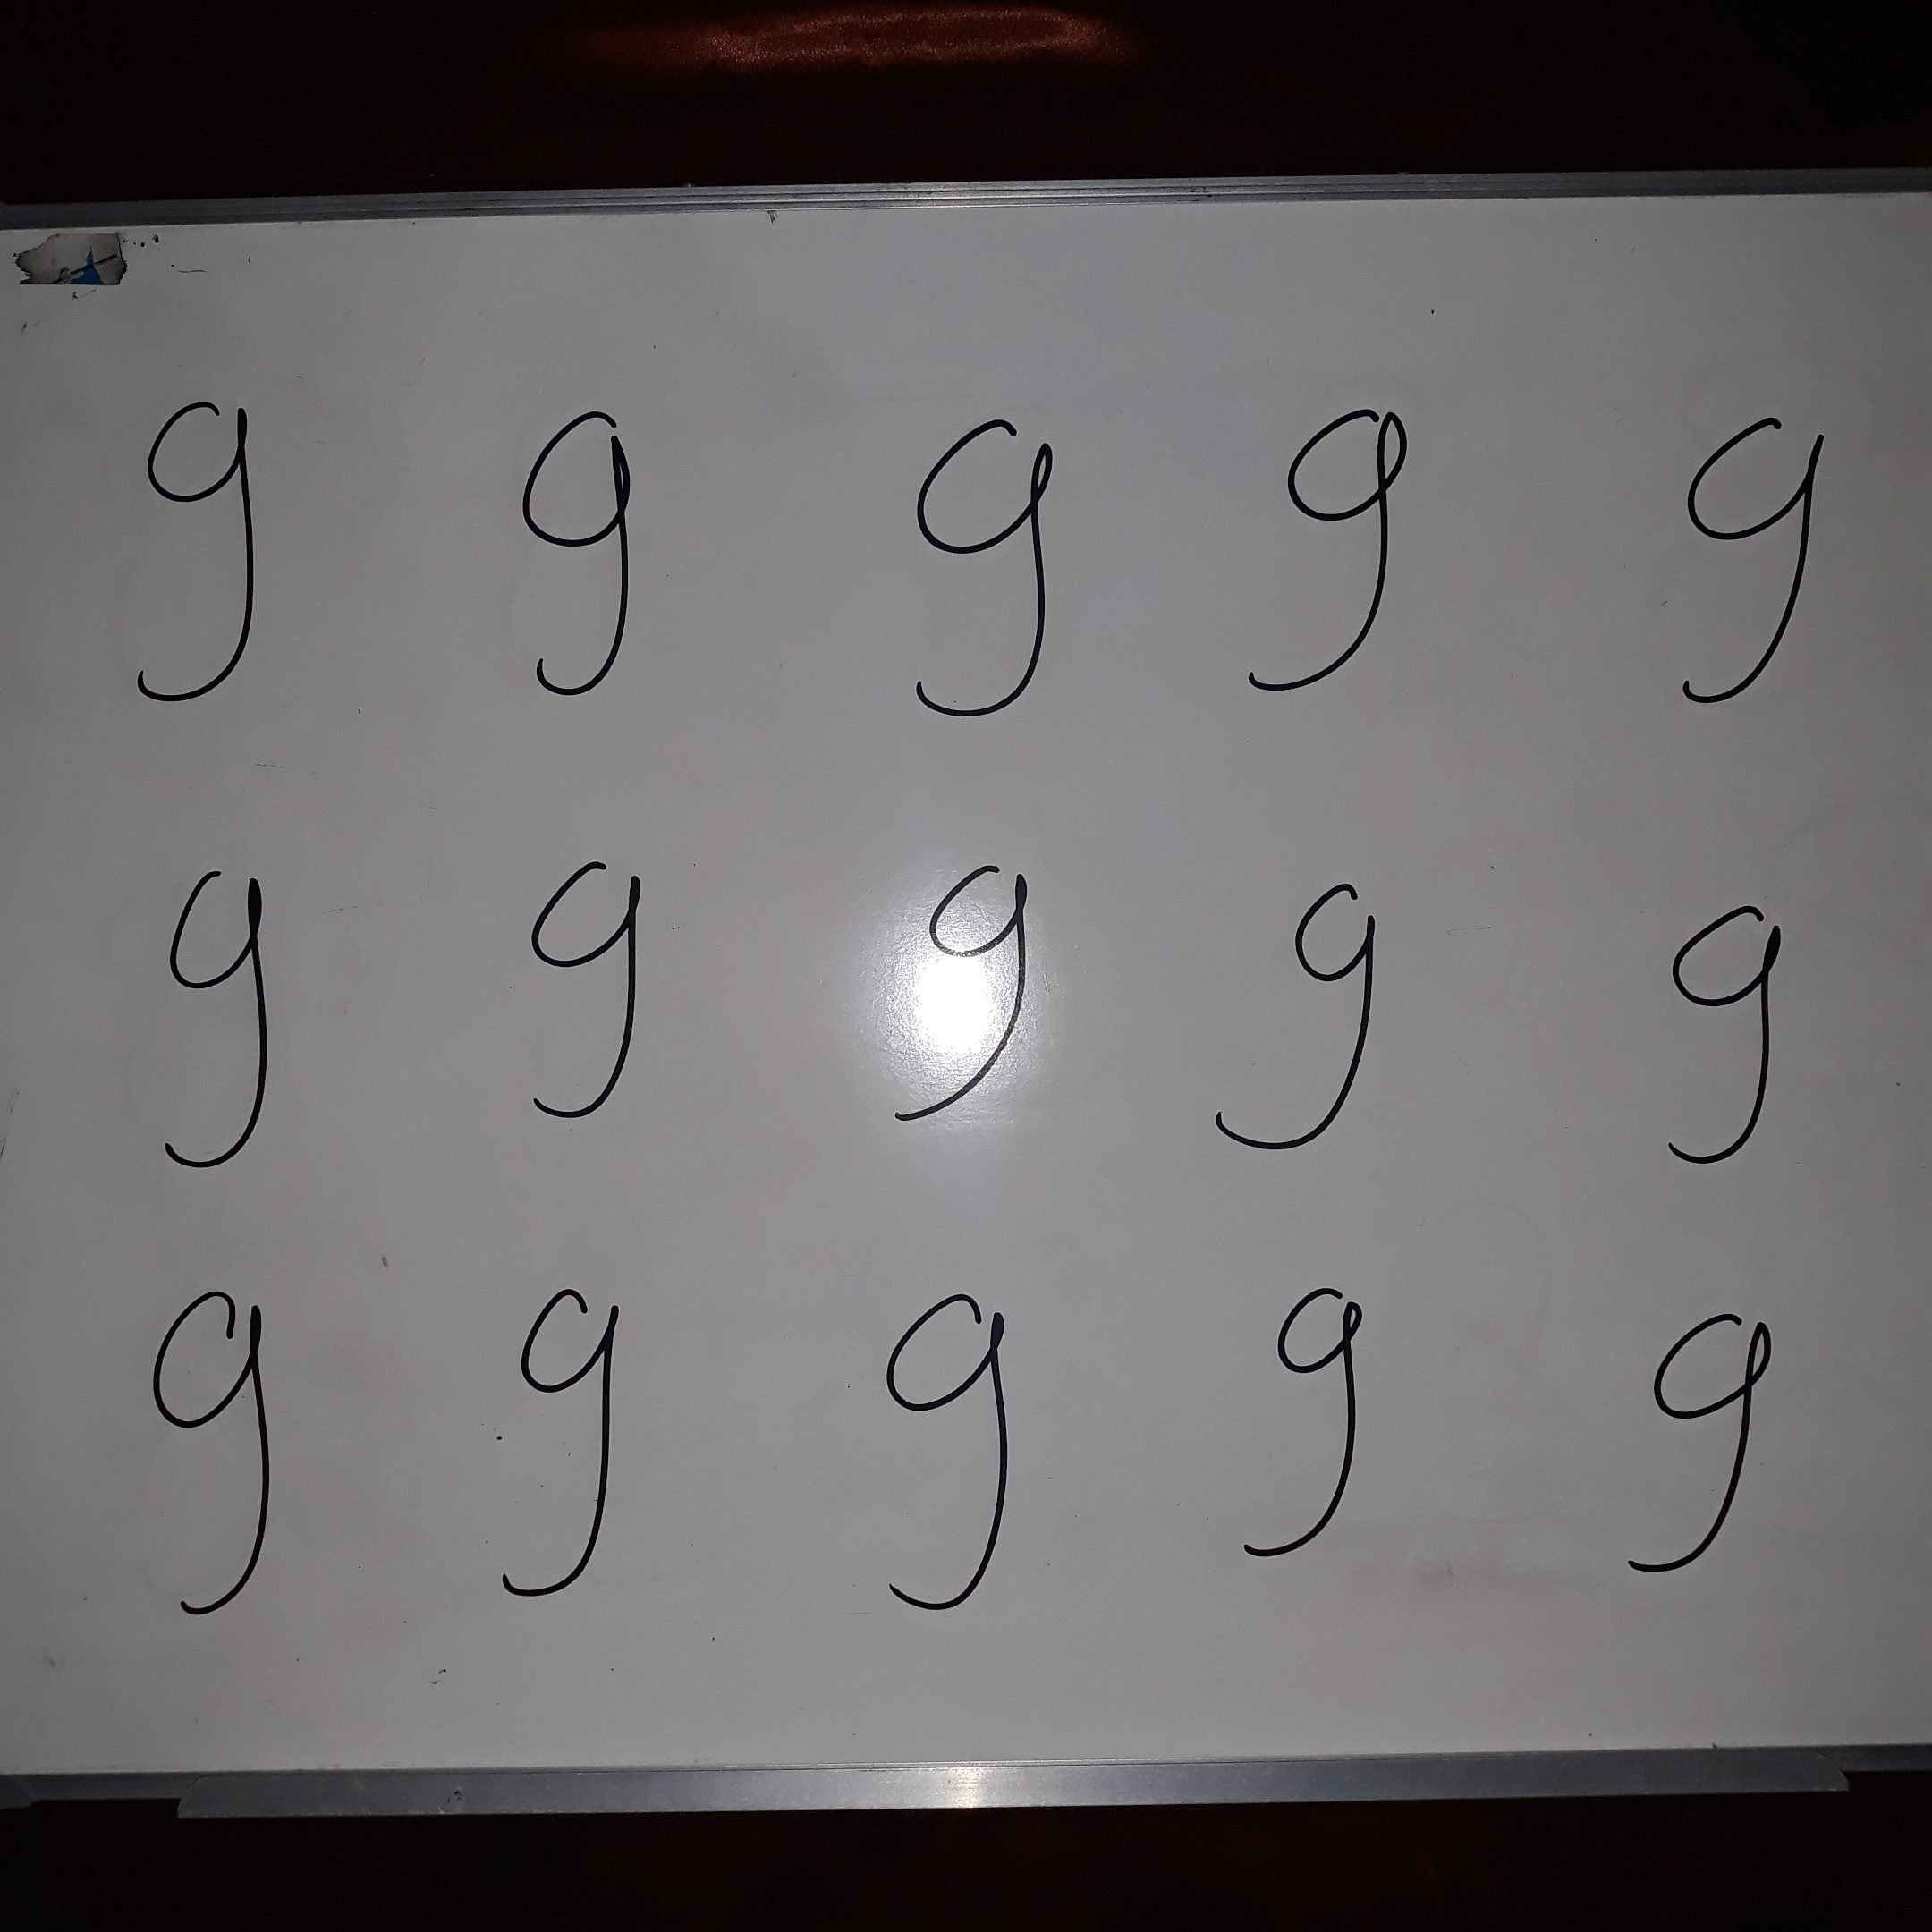num9: (91, 369, 321, 742), (129, 1274, 347, 1644), (870, 405, 1102, 748), (496, 388, 712, 730), (858, 1274, 1055, 1631), (500, 847, 716, 1173), (1204, 868, 1419, 1182), (1219, 1274, 1419, 1592), (1240, 386, 1433, 711), (861, 842, 1072, 1140), (1625, 882, 1826, 1193), (1665, 390, 1849, 727), (1605, 1292, 1801, 1606), (144, 852, 318, 1191), (485, 1274, 647, 1624)
